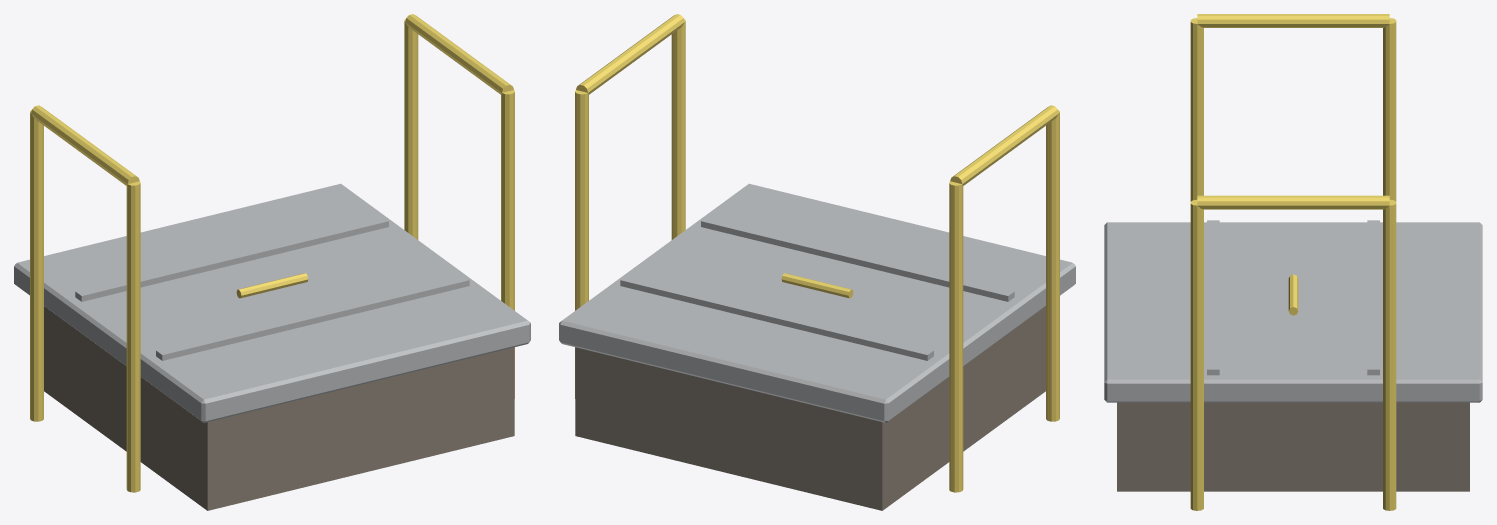
Rendered from hatch.glb.
The picture shows the model from 3 angles, left to right: view 1: azimuth 30°, elevation 25°; view 2: azimuth 150°, elevation 25°; view 3: azimuth 270°, elevation 25°; orthographic projection.
Visible parts, largest first — view 1: hatch_steel, hatch_alu, hatch_yellow; view 2: hatch_steel, hatch_alu, hatch_yellow; view 3: hatch_steel, hatch_alu, hatch_yellow.
Part boxes in pixels (left/top/right/bottom): hatch_steel: left=14, top=183, right=530, bottom=422; hatch_alu: left=44, top=306, right=514, bottom=510; hatch_yellow: left=30, top=14, right=514, bottom=492; hatch_steel: left=559, top=183, right=1075, bottom=422; hatch_alu: left=575, top=306, right=1045, bottom=510; hatch_yellow: left=575, top=14, right=1059, bottom=492; hatch_steel: left=1104, top=220, right=1482, bottom=402; hatch_alu: left=1117, top=402, right=1469, bottom=491; hatch_yellow: left=1190, top=14, right=1396, bottom=510.
Bounding box in the file's own units: 1.38 × 1.07 × 1.18.
